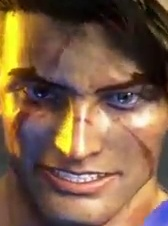kevin: (2, 14, 164, 225)
